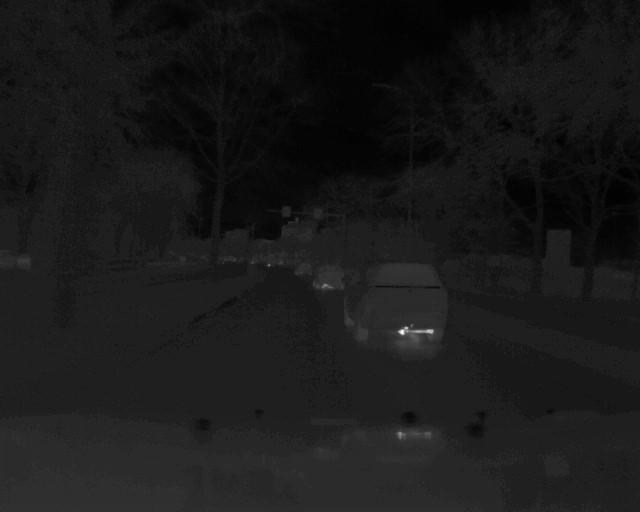car: (340, 257, 452, 343), (312, 263, 347, 293)
